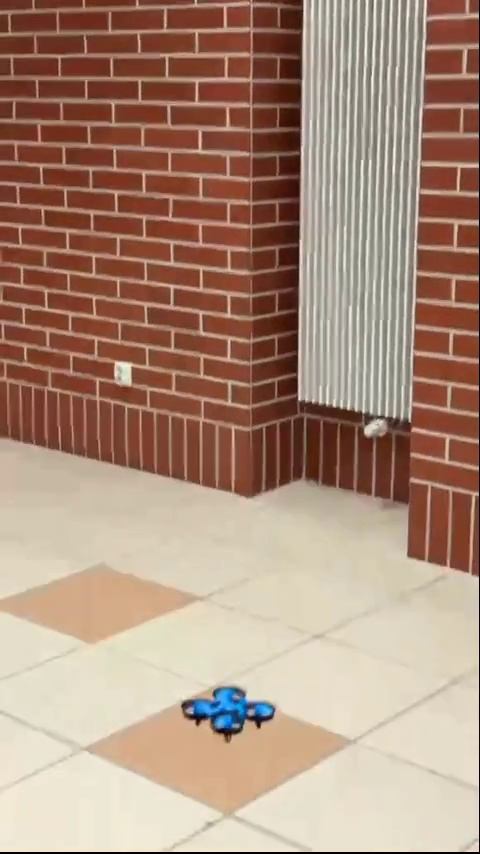drone: (179, 682, 272, 743)
